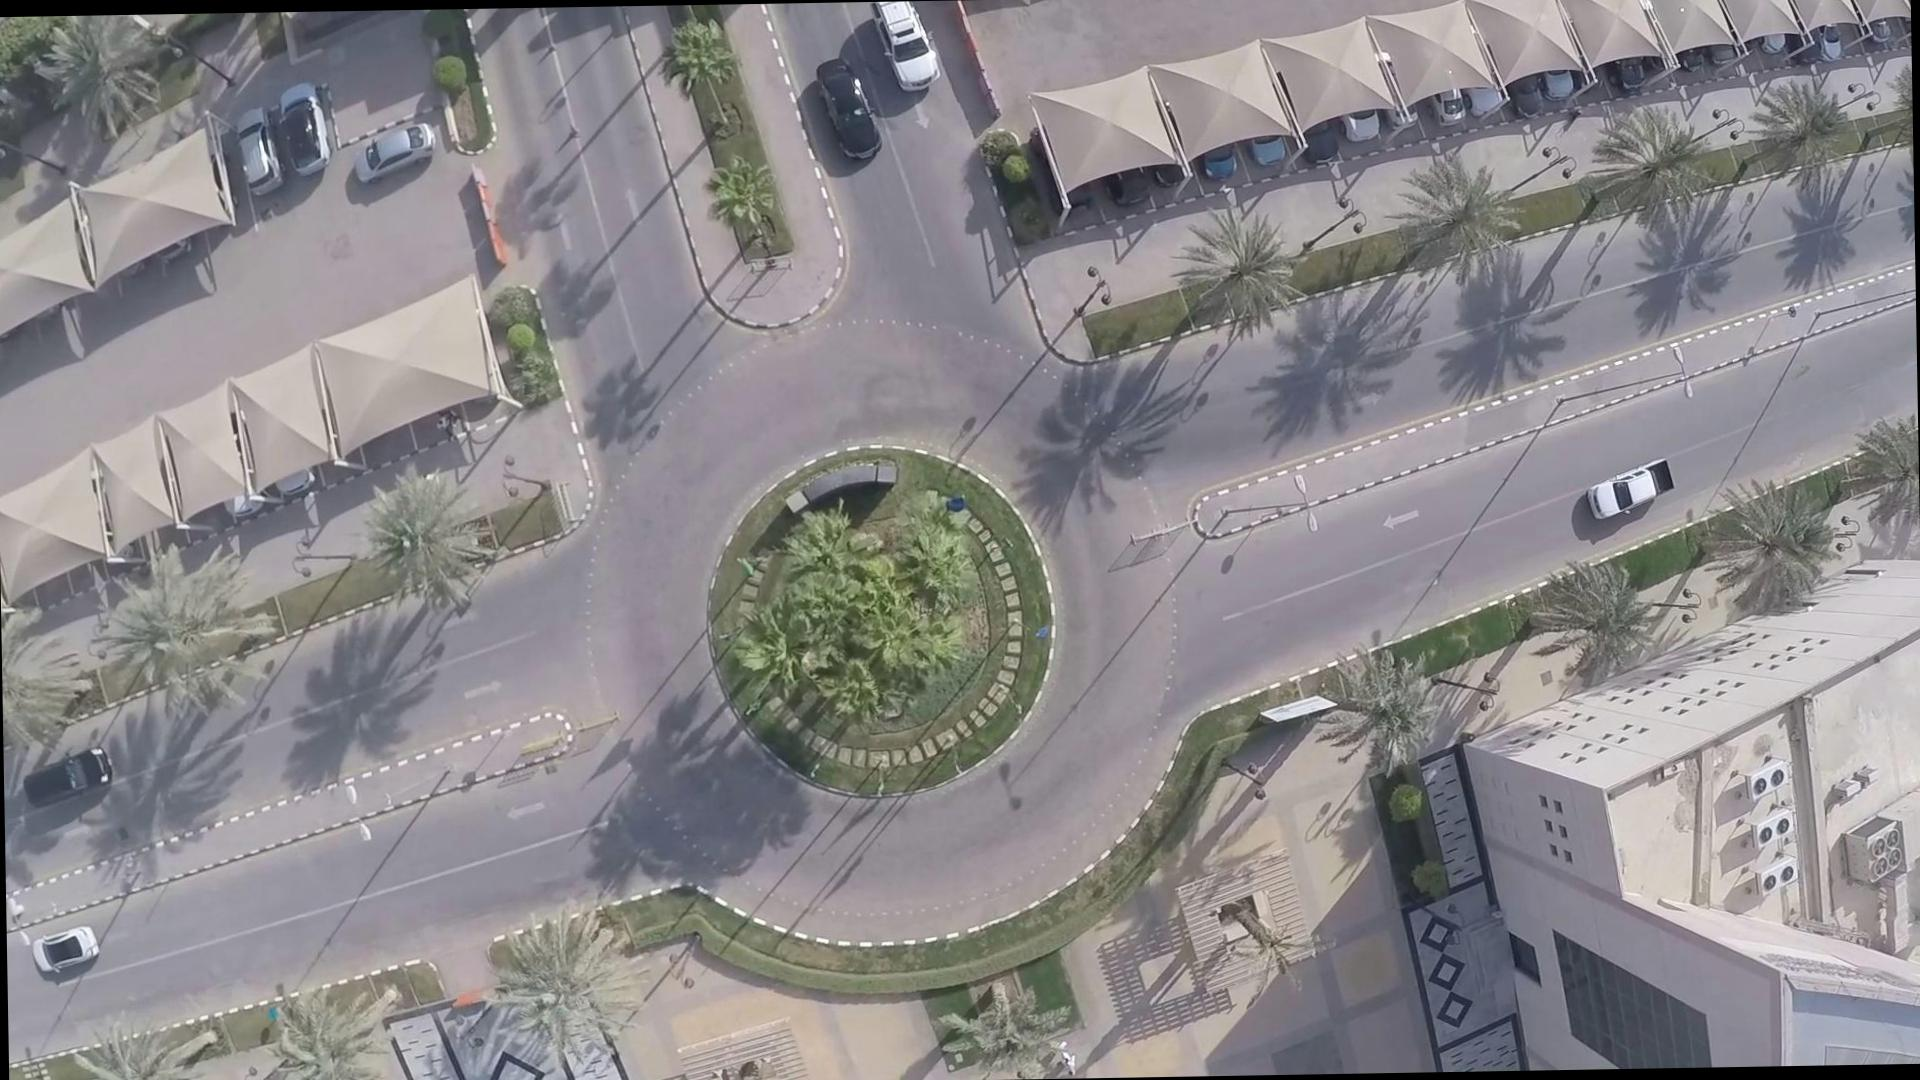vehicle: (807, 49, 886, 164), (21, 736, 127, 814), (869, 0, 952, 91), (1585, 448, 1691, 517), (355, 109, 426, 182), (287, 73, 331, 189), (29, 924, 103, 985), (236, 95, 272, 214)
